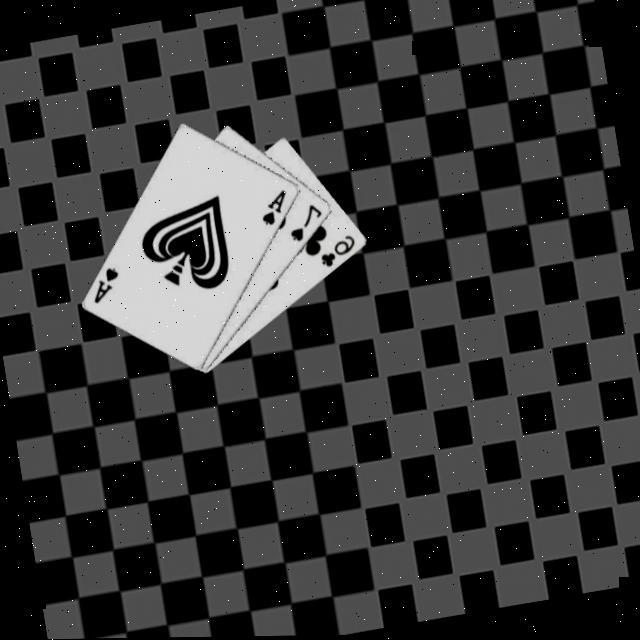6C: (316, 230, 362, 270)
7S: (284, 198, 330, 245)
AS: (86, 262, 127, 306), (255, 184, 295, 228)
